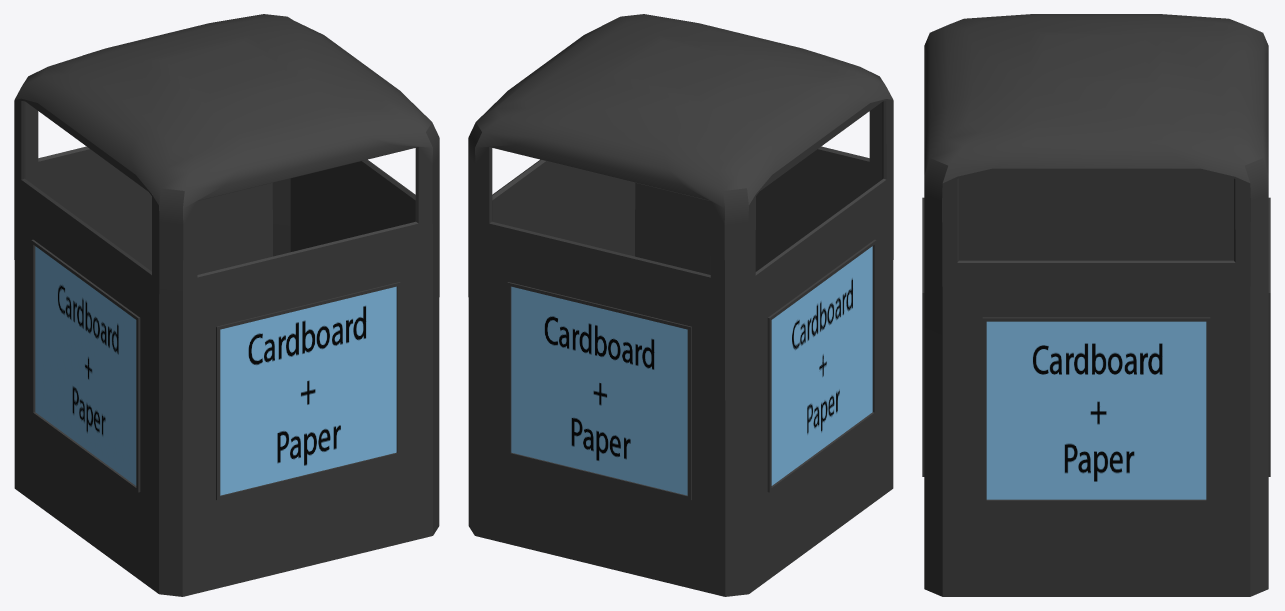
The model's file is Outdoor Bin card paper.fbx.
The picture shows the model from 3 angles, left to right: view 1: azimuth 30°, elevation 25°; view 2: azimuth 150°, elevation 25°; view 3: azimuth 270°, elevation 25°; orthographic projection. The views are drawn at different scales.
Parts seen in each view (by area): view 1: pCube3; view 2: pCube3; view 3: pCube3.
Part boxes in pixels (bbox=[...]): pCube3: bbox=[14, 14, 439, 596]; pCube3: bbox=[468, 14, 893, 596]; pCube3: bbox=[922, 14, 1270, 596].
Bounding box in the file's own units: 1.01 × 1.5 × 1.01.
2 materials, 1 textured.
